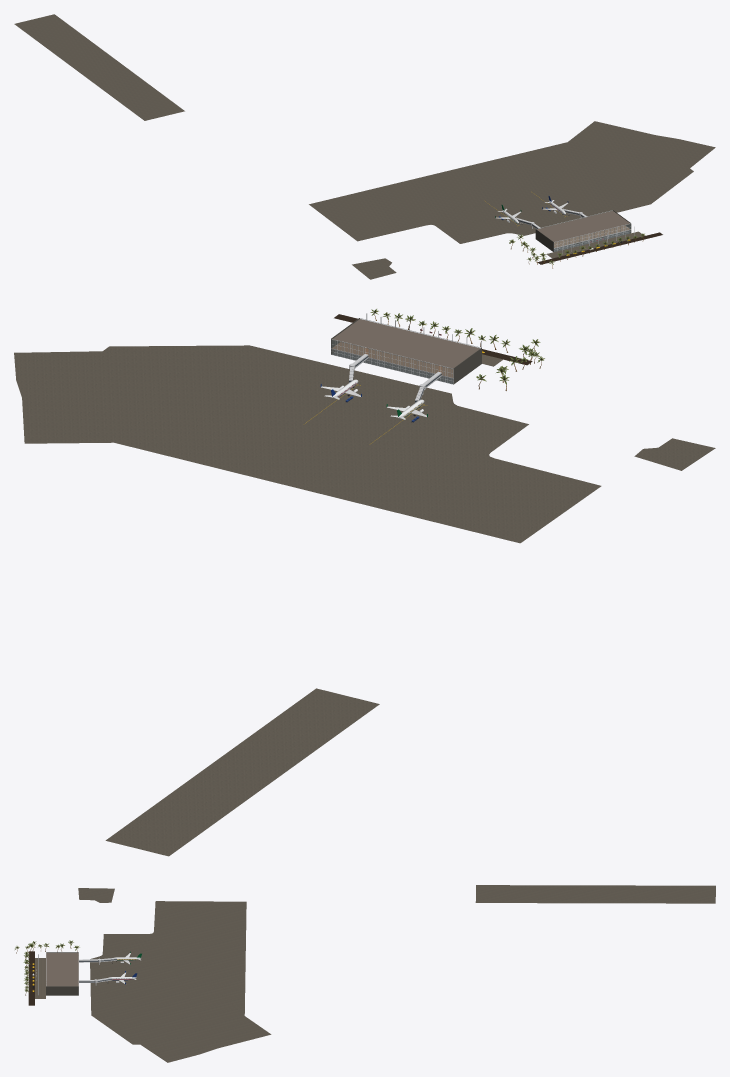
The model's file is ria-arrivals.v2.glb.
The picture shows the model from 3 angles, top to bottom: view 1: azimuth 30°, elevation 25°; view 2: azimuth 150°, elevation 25°; view 3: azimuth 270°, elevation 25°; orthographic projection. The views are drawn at different scales.
Parts seen in each view (by area): view 1: apron.001, apron, floors, forecourt, glass, apron.002; view 2: apron.001, apron, floors, glass.001, apron.002, mullions.001; view 3: apron.001, apron, floors, forecourt, apron.002, ends.
Boxes of the visible parts, x1,y1,x2,y2 form: apron.001: [309, 121, 715, 243]; apron: [14, 14, 184, 120]; floors: [537, 211, 630, 251]; forecourt: [537, 231, 662, 264]; glass: [554, 224, 630, 251]; apron.002: [352, 258, 396, 279]; apron.001: [14, 345, 601, 543]; apron: [105, 688, 379, 856]; floors: [331, 319, 480, 383]; glass.001: [331, 339, 452, 383]; apron.002: [634, 438, 715, 470]; mullions.001: [331, 339, 453, 384]; apron.001: [90, 901, 271, 1062]; apron: [475, 885, 715, 903]; floors: [46, 953, 78, 986]; forecourt: [28, 951, 45, 1005]; apron.002: [78, 888, 114, 902]; ends: [46, 952, 78, 995].
Size of what is drawn, in the model's own units: 532 by 12.85 by 888.
57 materials, 12 textured.
